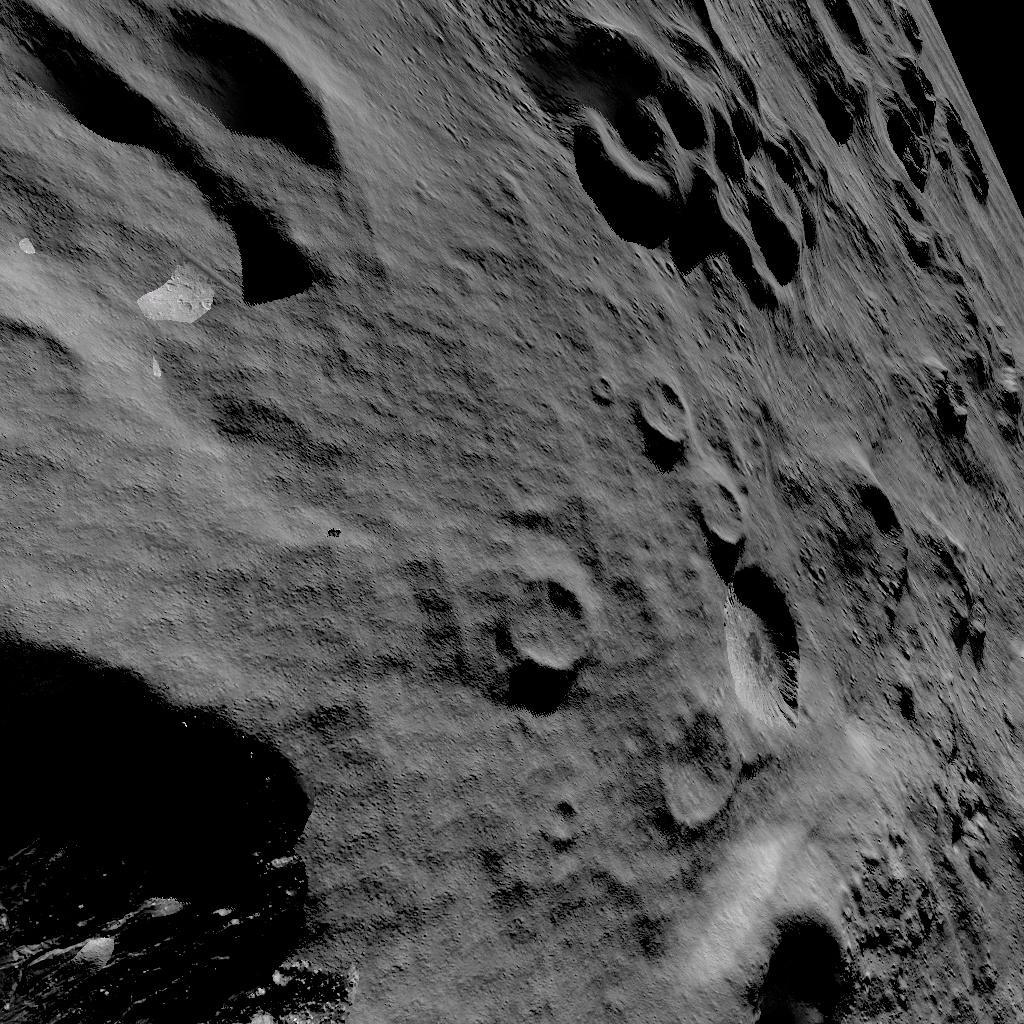Crater: (3, 613, 387, 1024), (1, 0, 355, 321), (560, 21, 876, 297), (652, 566, 834, 834), (732, 901, 872, 1024), (882, 0, 968, 178), (499, 567, 597, 697), (846, 469, 920, 617), (636, 376, 708, 456), (692, 476, 756, 548)
Plan surface: (3, 328, 477, 578), (405, 724, 636, 1024), (364, 0, 494, 315)
